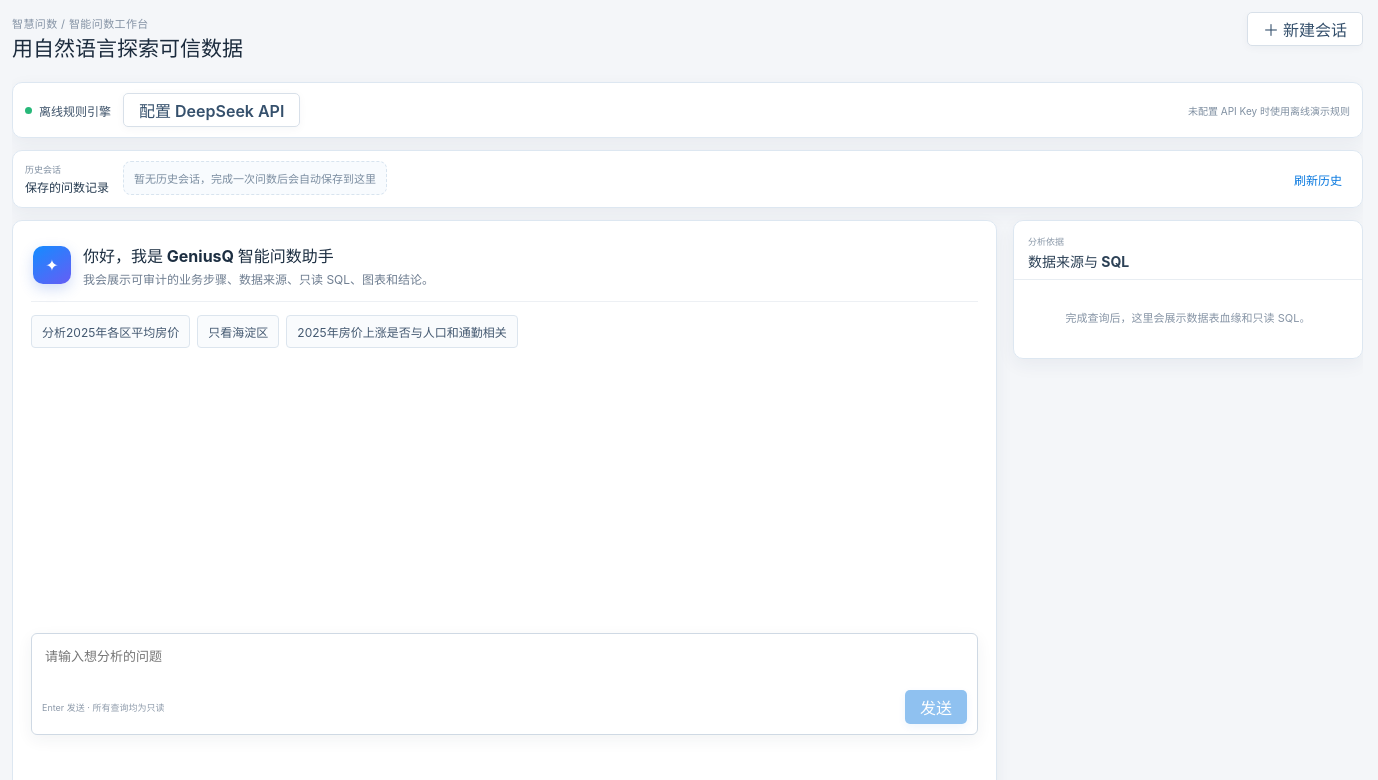
refreshes the history panel after saved conversations appear
The width and height of the screenshot is (1378, 780).
Expected: the text "暂无历史会话" is shown, [134,172,376,186]
Click the button "刷新历史".
click(1318, 179)  # box [1286,164,1350,194]
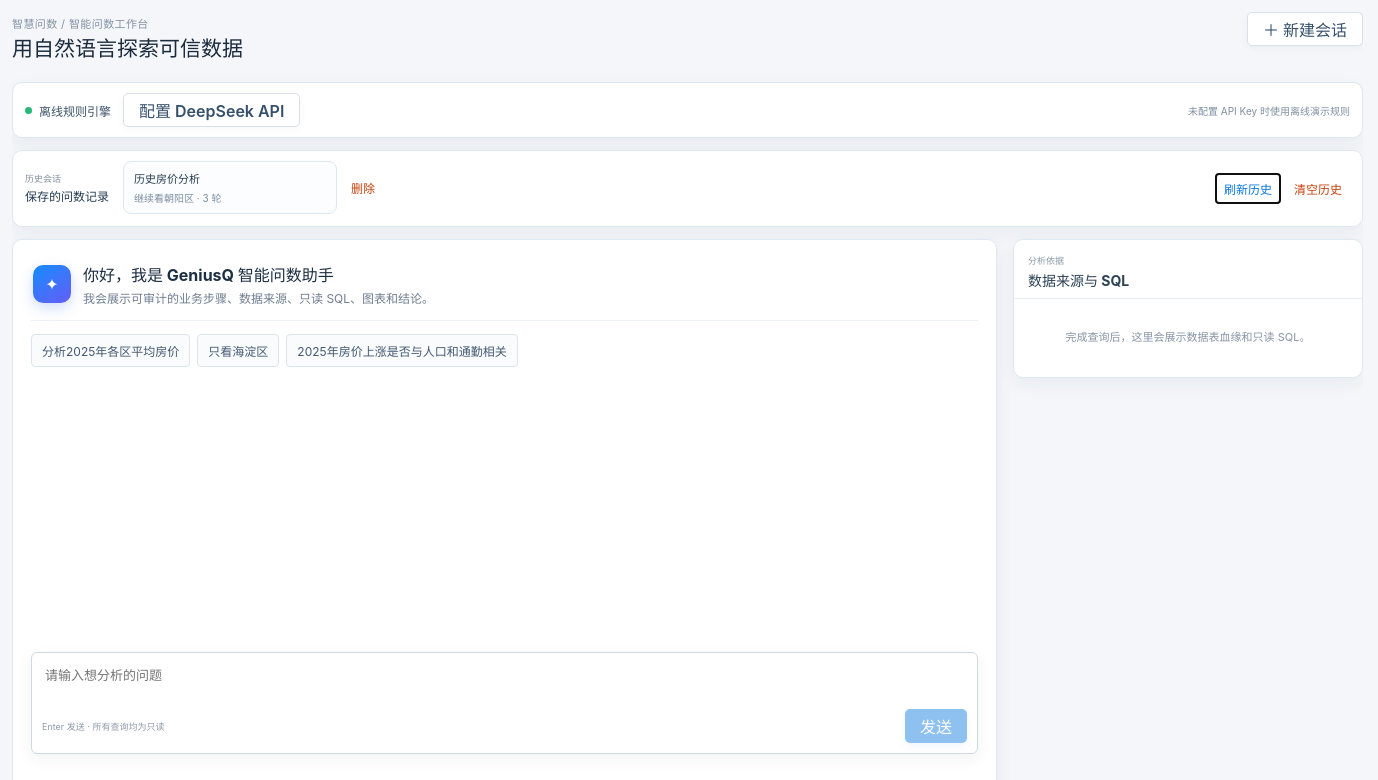
Now the button with aria-label "打开会话：历史房价分析" is shown, box [123,161,337,214]
Now the text "继续看朝阳区" is shown, box [134,192,194,204]
